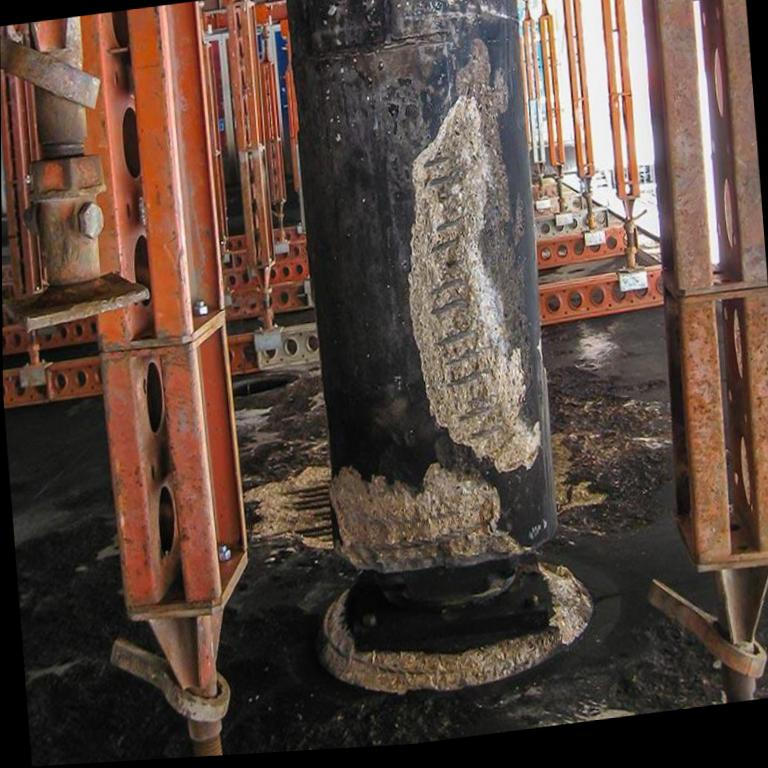damage: (408, 98, 541, 478), (318, 569, 593, 699), (329, 467, 528, 578), (244, 469, 331, 552)
